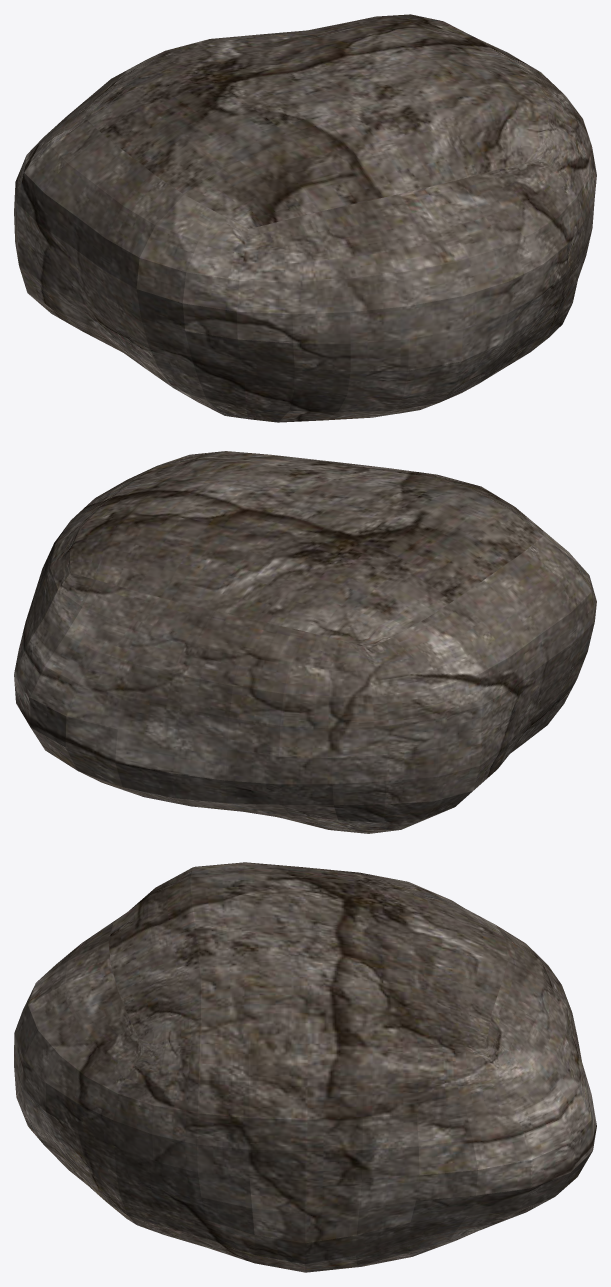
File: SmallRock1.fbx
The picture shows the model from 3 angles, top to bottom: view 1: azimuth 30°, elevation 25°; view 2: azimuth 150°, elevation 25°; view 3: azimuth 270°, elevation 25°; orthographic projection. The views are drawn at different scales.
Parts seen in each view (by area): view 1: bolder3; view 2: bolder3; view 3: bolder3.
Part boxes in pixels (<box>): bolder3: <box>14,14,596,422</box>; bolder3: <box>14,451,596,833</box>; bolder3: <box>14,862,596,1272</box>.
Size of the model in its own units: 155 by 90.35 by 164.
Materials: 1 (1 with a texture image).
